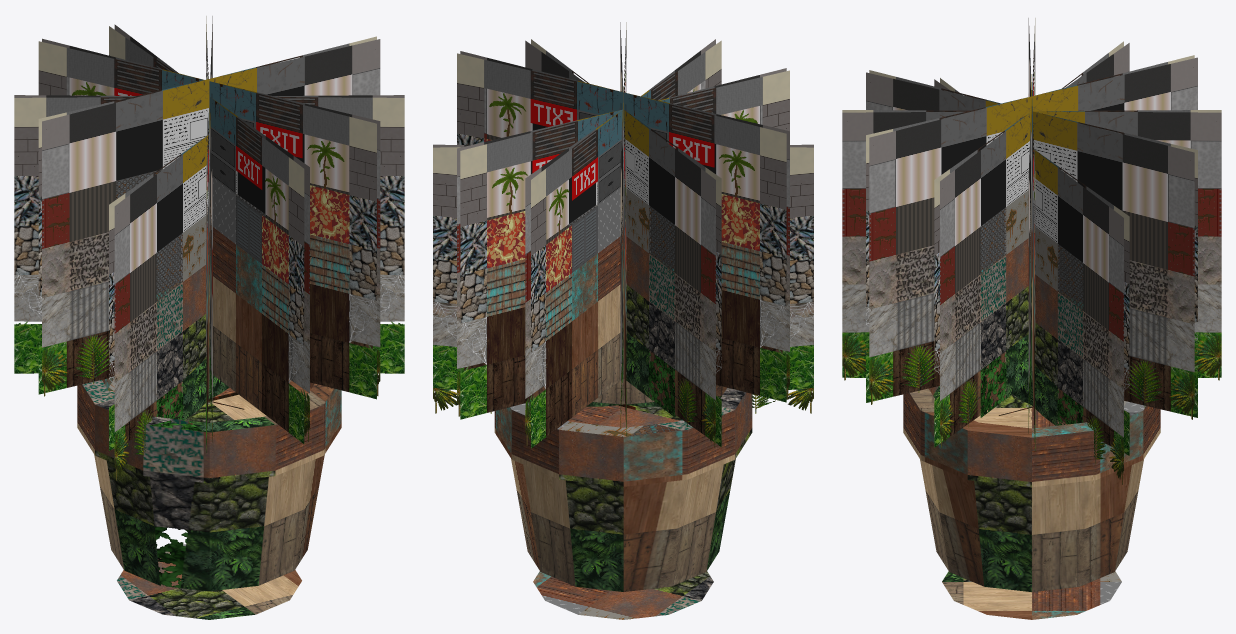
File: OfficePlant.fbx
3 renders of one model, left to right at view 1: azimuth 30°, elevation 25°; view 2: azimuth 150°, elevation 25°; view 3: azimuth 270°, elevation 25°, orthographic. The views are drawn at different scales.
Parts seen in each view (by area): view 1: Cylinder; view 2: Cylinder; view 3: Cylinder.
Boxes of the visible parts, bbox=[...] form: Cylinder: bbox=[14, 16, 404, 619]; Cylinder: bbox=[433, 22, 813, 619]; Cylinder: bbox=[842, 18, 1221, 619].
Bounding box in the file's own units: 0.6933 × 0.983 × 0.6933.
